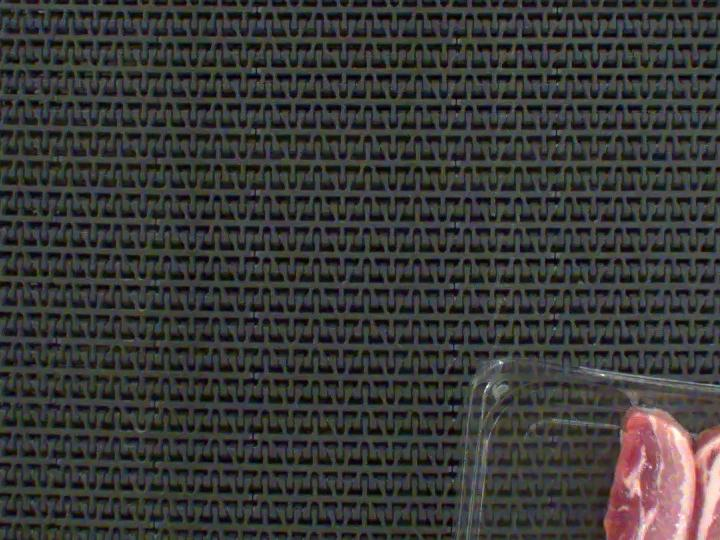packaging-error: (619, 382, 682, 421)
